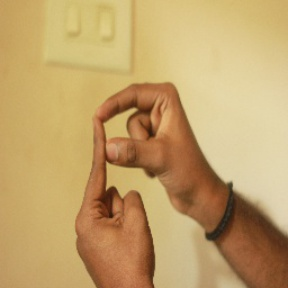P: (71, 75, 195, 236)
